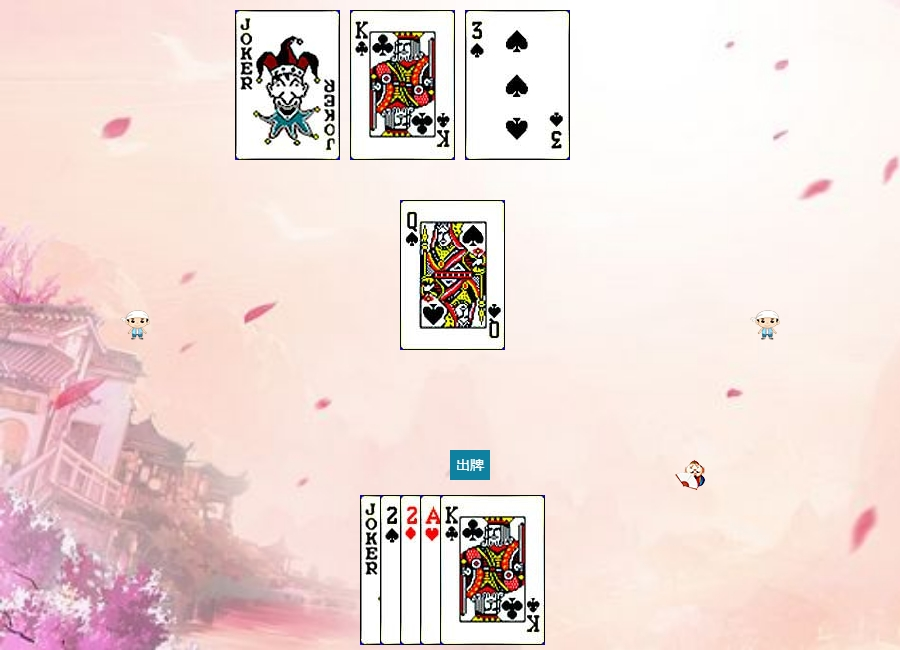12~4: (400, 200, 505, 350)
13~2: (350, 10, 455, 160), (440, 495, 545, 645)
14~3: (420, 495, 525, 645)
15~1: (400, 495, 505, 645)
15~4: (380, 495, 485, 645)
17~3: (235, 10, 340, 160), (360, 495, 465, 645)
3~4: (465, 10, 570, 160)
